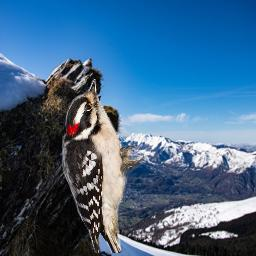Woodpecker: (62, 79, 143, 253)
